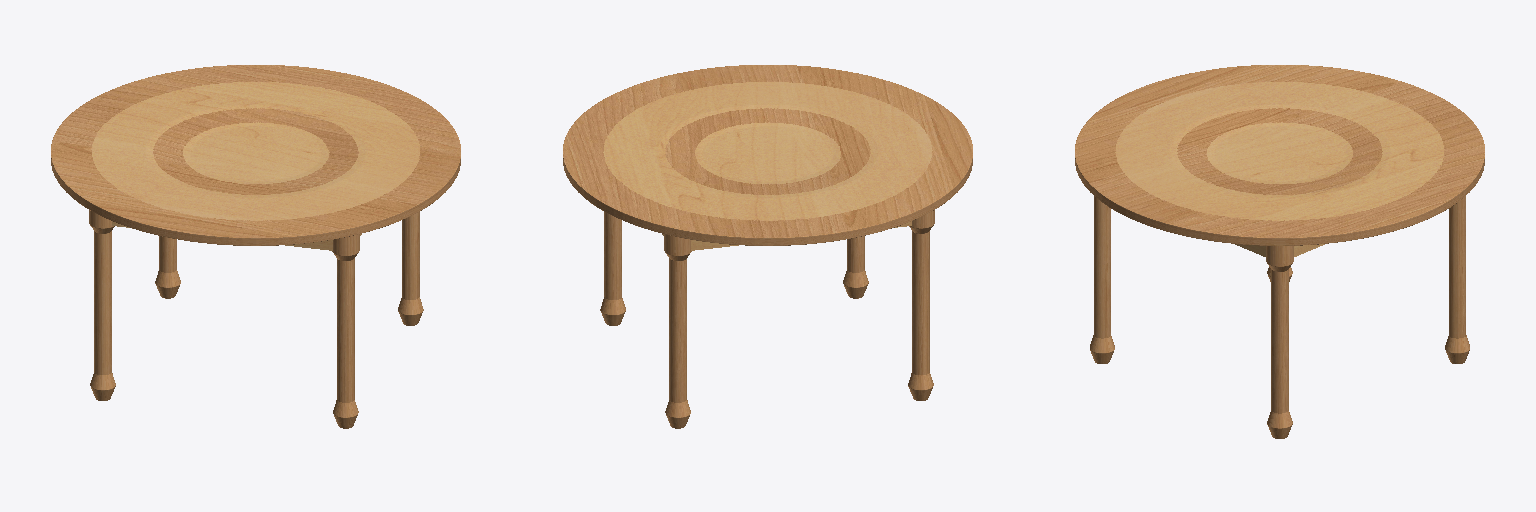
The picture shows the model from 3 angles: view 1: azimuth 30°, elevation 25°; view 2: azimuth 150°, elevation 25°; view 3: azimuth 270°, elevation 25°; orthographic projection.
Visible parts, largest first — view 1: Table_Circle.004, Leg_Cylinder.001; view 2: Table_Circle.004, Leg_Cylinder.001; view 3: Table_Circle.004, Leg_Cylinder.001.
Part boxes in pixels (bbox=[...]): Table_Circle.004: bbox=[51, 65, 460, 245]; Leg_Cylinder.001: bbox=[89, 210, 423, 428]; Table_Circle.004: bbox=[563, 65, 972, 245]; Leg_Cylinder.001: bbox=[600, 210, 934, 428]; Table_Circle.004: bbox=[1075, 65, 1484, 245]; Leg_Cylinder.001: bbox=[1090, 196, 1469, 438].
Size of the model in its own units: 2.59 by 1.46 by 2.59.
1 materials, 1 textured.